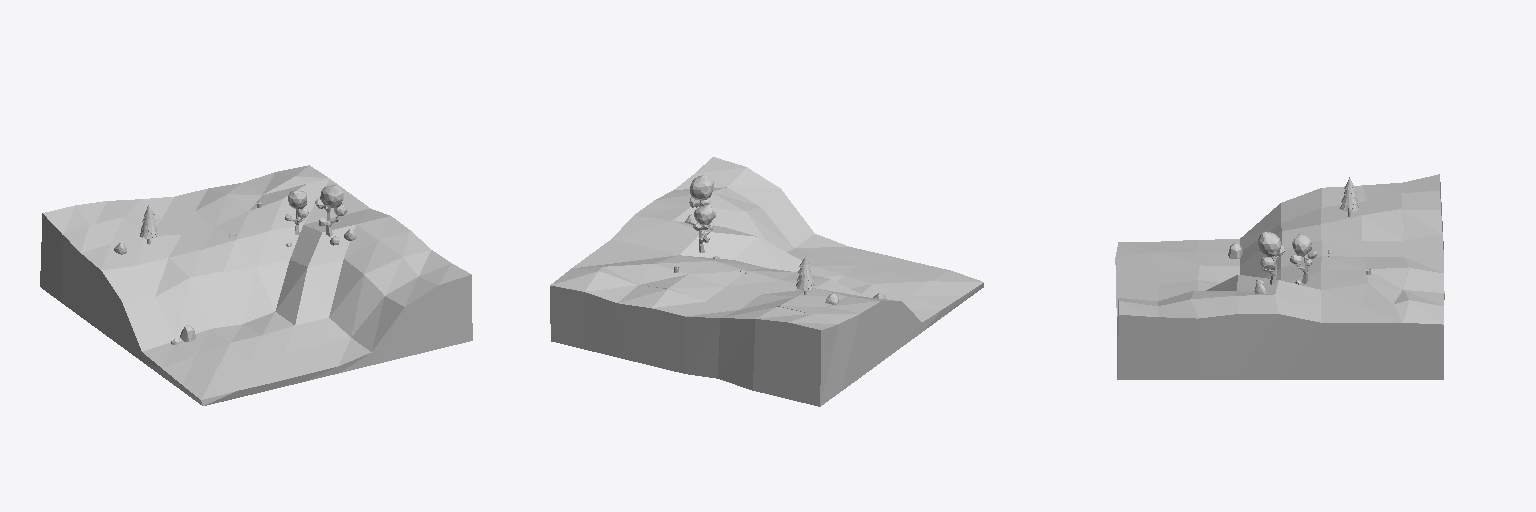
The model's file is SceneDraft2.obj.
3 views of the same model, side by side, from view 1: azimuth 30°, elevation 25°; view 2: azimuth 150°, elevation 25°; view 3: azimuth 270°, elevation 25° (orthographic).
Visible parts, largest first — view 1: Plane.001, Tree1.002_Cube.001, Tree1.001_Cube.000; view 2: Plane.001, Tree1.002_Cube.001, Tree1.001_Cube.000; view 3: Plane.001, Tree1.002_Cube.001, Tree1.001_Cube.000.
Part boxes in pixels (x1,y1,x2,y2): Plane.001: (40,165,472,405); Tree1.002_Cube.001: (315,185,347,236); Tree1.001_Cube.000: (285,190,308,234); Plane.001: (550,157,983,406); Tree1.002_Cube.001: (689,175,715,218); Tree1.001_Cube.000: (693,205,713,252); Plane.001: (1115,174,1444,379); Tree1.002_Cube.001: (1258,232,1284,284); Tree1.001_Cube.000: (1290,234,1316,283).
Bounding box in the file's own units: 69.05 × 28.39 × 72.57.